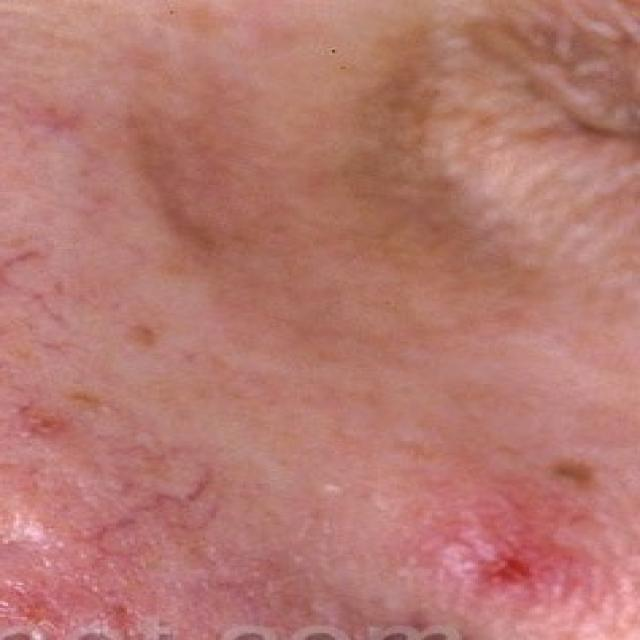Rosacea: (0, 403, 274, 622), (408, 458, 608, 618)
